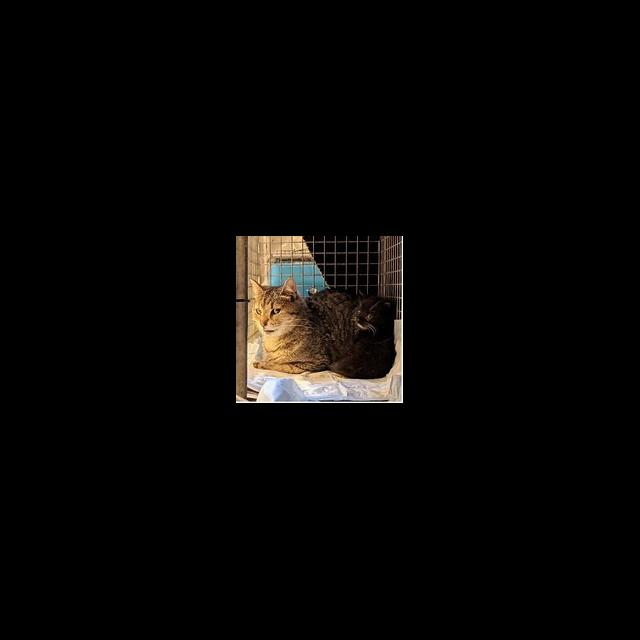animals: (251, 279, 351, 375), (355, 289, 396, 379)
